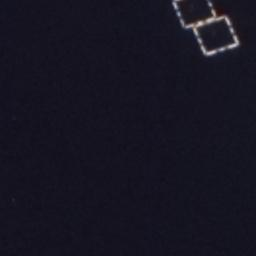square_solid: (189, 13, 243, 57), (168, 1, 220, 30)
